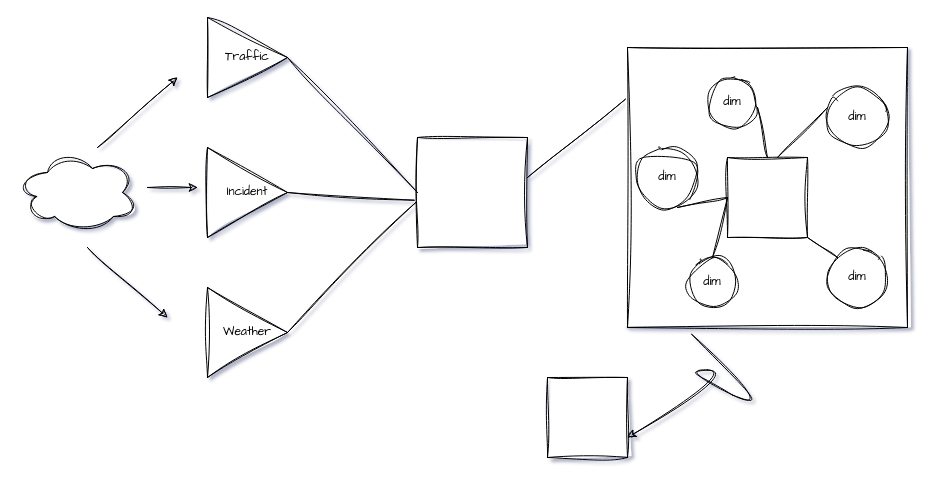
Some shapes in this 931 by 481 pixel diagram are drawn without their labels. The box of each missing label's shape, as (x1, y1, x2, y2) in pixels:
FACT TABLE: (726, 156, 808, 238)
Staging TAble: (416, 136, 528, 248)
VISUALS: (546, 376, 628, 458)
WEBSITES AND SOURCE: (16, 152, 138, 232)
